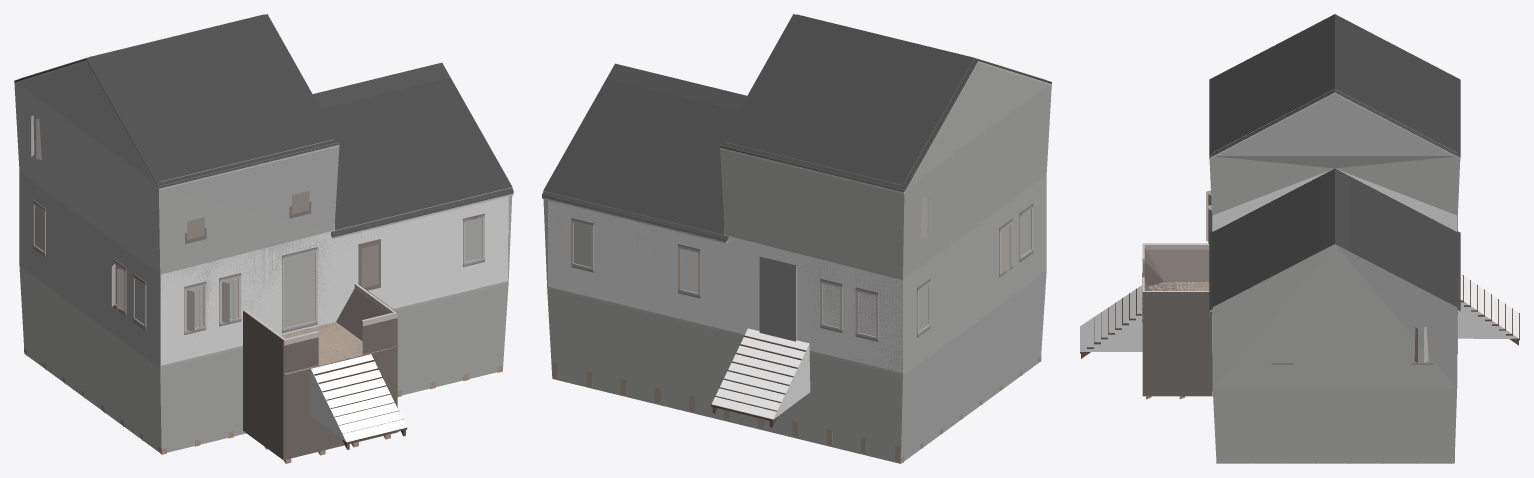
File: eca_bld_creepyhouse_1.dae
The picture shows the model from 3 angles, left to right: view 1: azimuth 30°, elevation 25°; view 2: azimuth 150°, elevation 25°; view 3: azimuth 270°, elevation 25°; orthographic projection. The views are drawn at different scales.
Parts seen in each view (by area): view 1: Colmesh-1, eca_bld_creepyhouse_a20, eca_bld_creepyhouse_a800, eca_bld_creepyhouse_a320; view 2: Colmesh-1, eca_bld_creepyhouse_a20, eca_bld_creepyhouse_a800, eca_bld_creepyhouse_a320; view 3: Colmesh-1, eca_bld_creepyhouse_a20, eca_bld_creepyhouse_a800, eca_bld_creepyhouse_a320.
Part boxes in pixels (x1=…): Colmesh-1: x1=14, y1=14, x2=512, y2=460; eca_bld_creepyhouse_a20: x1=19, y1=14, x2=508, y2=368; eca_bld_creepyhouse_a800: x1=14, y1=14, x2=513, y2=463; eca_bld_creepyhouse_a320: x1=133, y1=63, x2=508, y2=448; Colmesh-1: x1=543, y1=14, x2=1051, y2=463; eca_bld_creepyhouse_a20: x1=547, y1=14, x2=1046, y2=375; eca_bld_creepyhouse_a800: x1=542, y1=15, x2=1051, y2=462; eca_bld_creepyhouse_a320: x1=542, y1=64, x2=1033, y2=424; Colmesh-1: x1=1080, y1=14, x2=1518, y2=463; eca_bld_creepyhouse_a20: x1=1212, y1=15, x2=1457, y2=302; eca_bld_creepyhouse_a800: x1=1080, y1=16, x2=1519, y2=463; eca_bld_creepyhouse_a320: x1=1081, y1=133, x2=1517, y2=358.
Bounding box in the file's own units: 10.36 × 12.6 × 9.57.
